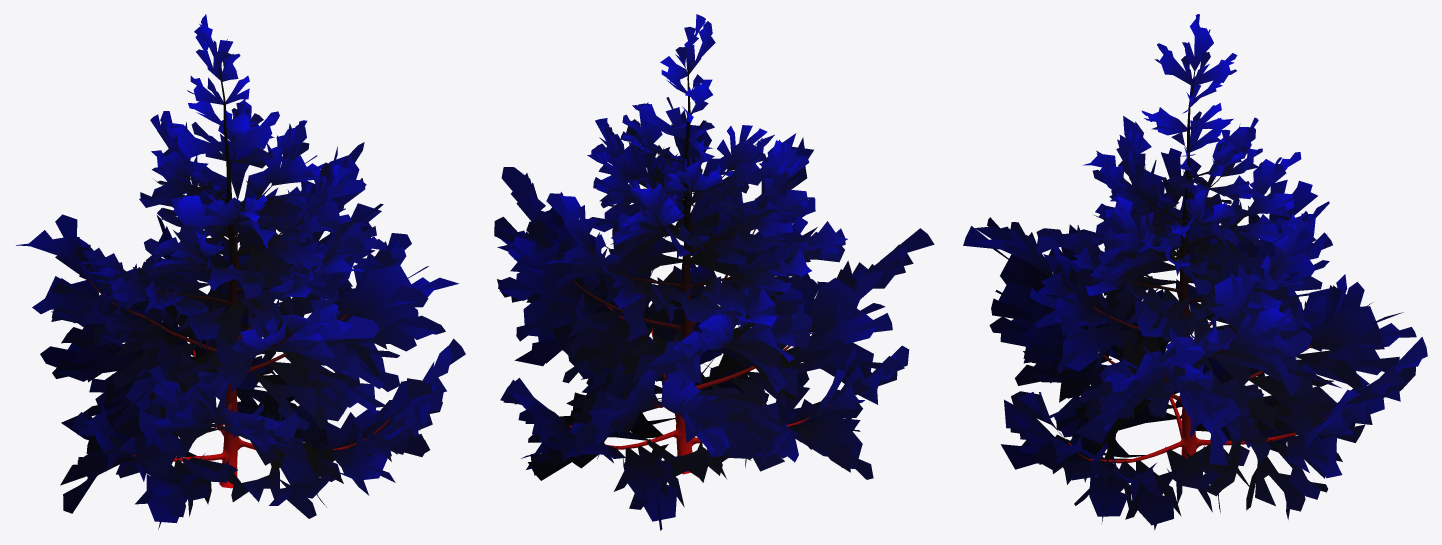
Rendered from SM_SilverFir_06.fbx.
The picture shows the model from 3 angles, left to right: view 1: azimuth 30°, elevation 25°; view 2: azimuth 150°, elevation 25°; view 3: azimuth 270°, elevation 25°; orthographic projection. The views are drawn at different scales.
Parts seen in each view (by area): view 1: SM_SilverFir_06_LOD0; view 2: SM_SilverFir_06_LOD0; view 3: SM_SilverFir_06_LOD0.
Boxes of the visible parts, x1,y1,x2,y2 form: SM_SilverFir_06_LOD0: (16,14,465,529); SM_SilverFir_06_LOD0: (494,14,934,530); SM_SilverFir_06_LOD0: (963,14,1427,530).
Size of the model in its own units: 304 by 329 by 358.
